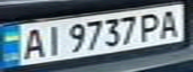3: (103, 16, 124, 47)
7: (81, 17, 106, 52), (118, 12, 142, 45)
9: (63, 20, 87, 54)
A: (15, 25, 48, 61), (154, 7, 187, 39)
I: (39, 22, 66, 56)
P: (136, 10, 166, 43)
